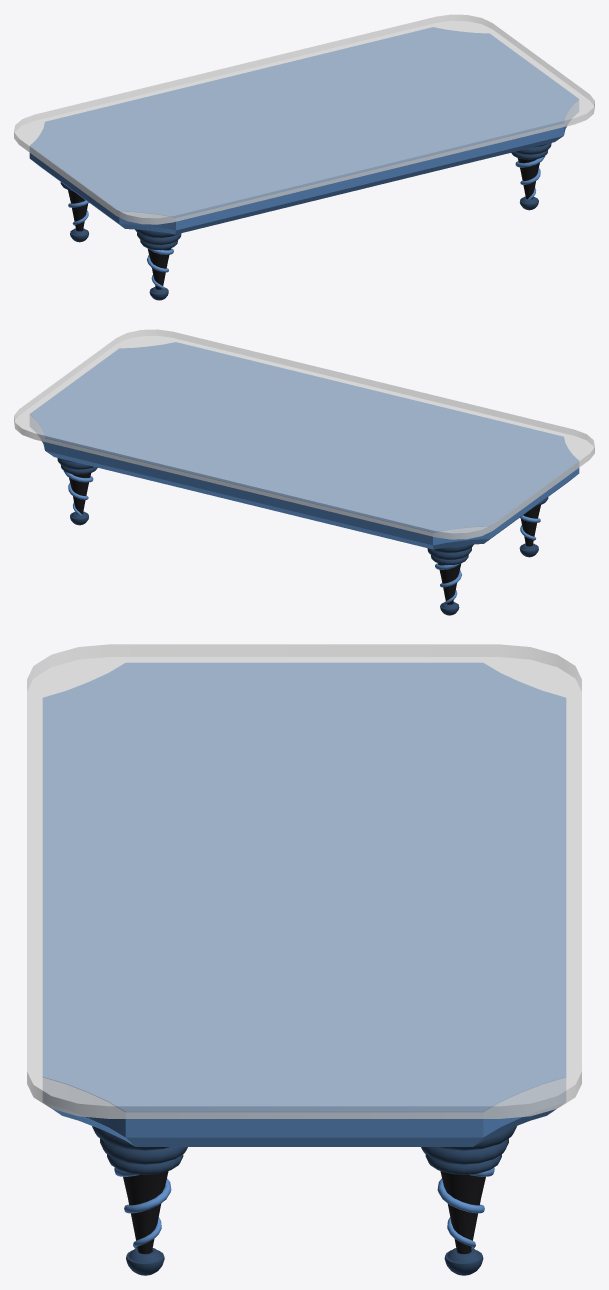
The model's file is Furn_TableFloatingSmall_Blue_A.fbx.
3 views of the same model, one above another, from view 1: azimuth 30°, elevation 25°; view 2: azimuth 150°, elevation 25°; view 3: azimuth 270°, elevation 25° (orthographic). The views are drawn at different scales.
Visible parts, largest first — view 1: Furn_TableFloatingSmall_Blue_A.001; view 2: Furn_TableFloatingSmall_Blue_A.001; view 3: Furn_TableFloatingSmall_Blue_A.001.
Part boxes in pixels (<box>): Furn_TableFloatingSmall_Blue_A.001: <box>14,14,594,300</box>; Furn_TableFloatingSmall_Blue_A.001: <box>14,329,594,615</box>; Furn_TableFloatingSmall_Blue_A.001: <box>27,644,581,1275</box>.
Size of the model in its own units: 1.4 by 0.3043 by 0.7099.
